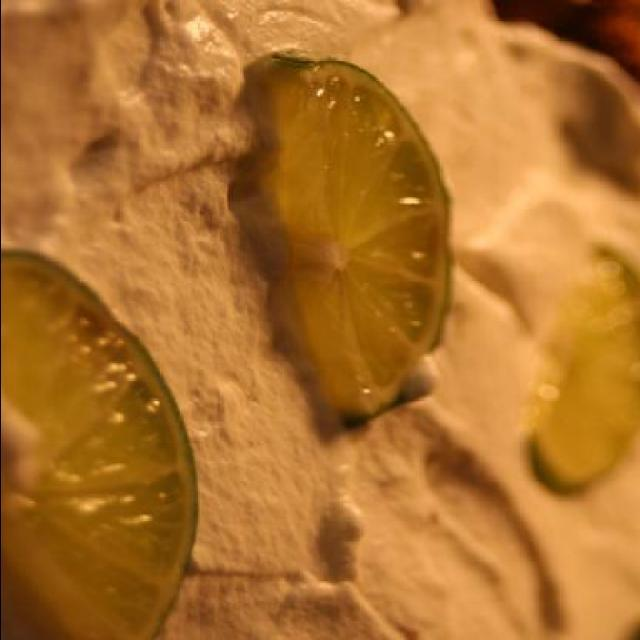Lemon: (234, 45, 457, 418), (1, 247, 202, 640), (520, 244, 640, 496)
